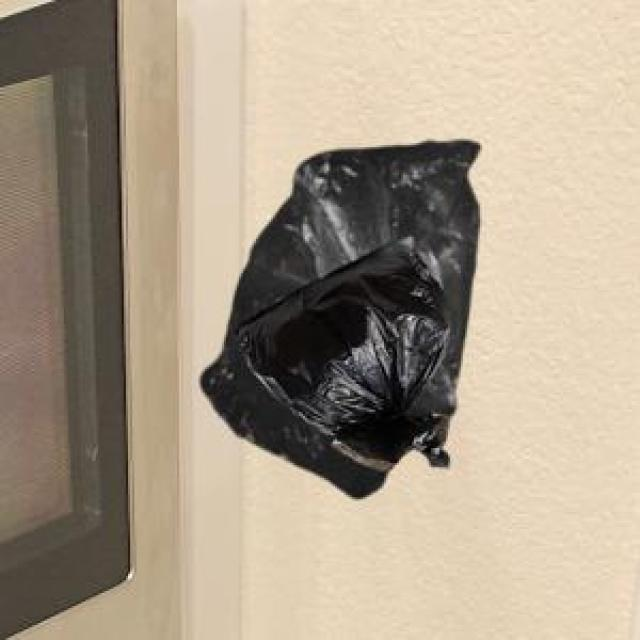miscellaneous trash: (230, 233, 446, 467)
